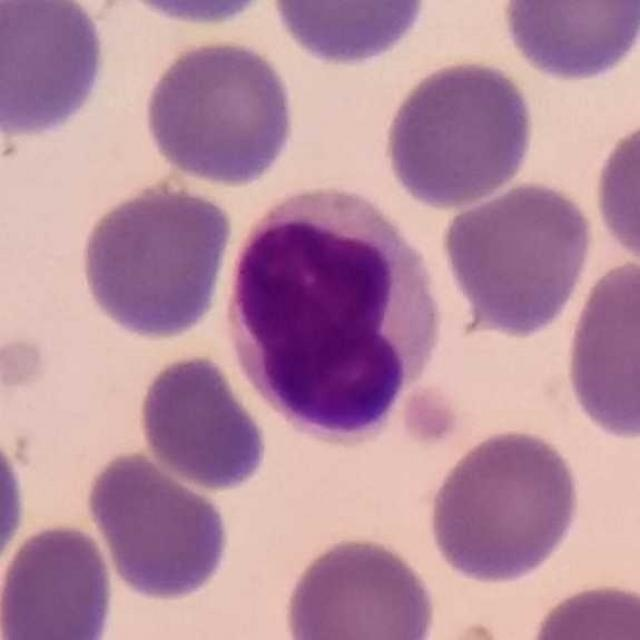Lymphocyte: (217, 180, 449, 453)
Platelets: (399, 391, 464, 460)
RBC: (423, 424, 585, 588), (438, 177, 599, 339), (76, 180, 236, 343), (82, 446, 236, 606), (139, 36, 300, 189), (380, 56, 538, 210), (134, 350, 272, 494), (279, 531, 441, 640), (0, 0, 110, 141), (560, 254, 640, 445), (0, 520, 119, 640), (497, 0, 640, 85), (267, 0, 433, 70), (590, 114, 640, 272), (524, 577, 640, 640), (107, 0, 285, 29), (0, 420, 30, 588)
